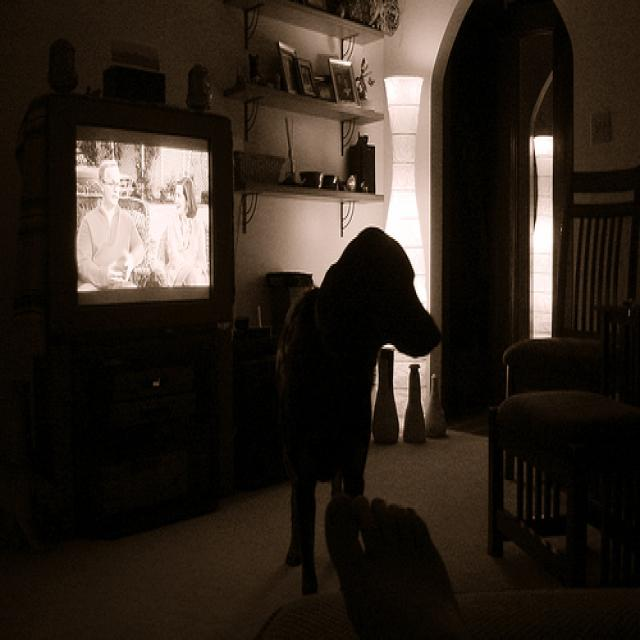Dog: (271, 240, 455, 596)
